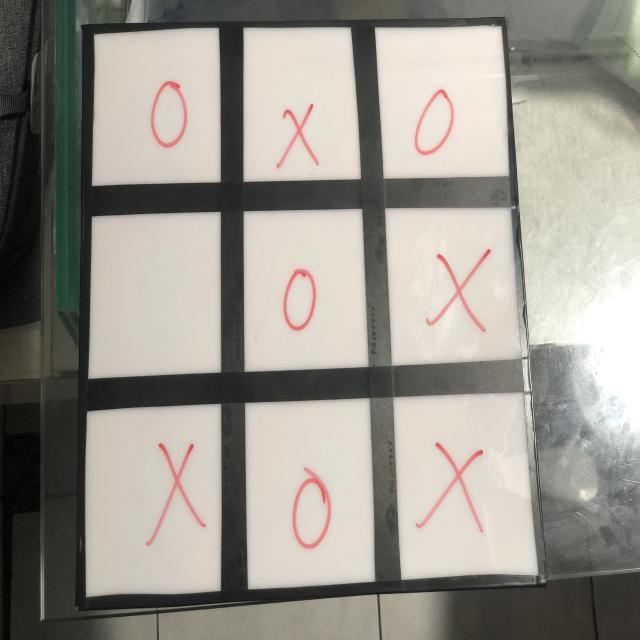null: (87, 213, 221, 380)
o: (284, 468, 338, 555), (413, 85, 460, 157), (149, 79, 192, 152), (279, 265, 319, 336)
table: (47, 3, 544, 606)
x: (413, 439, 491, 543), (143, 442, 205, 549), (426, 245, 492, 341), (272, 97, 323, 174)
